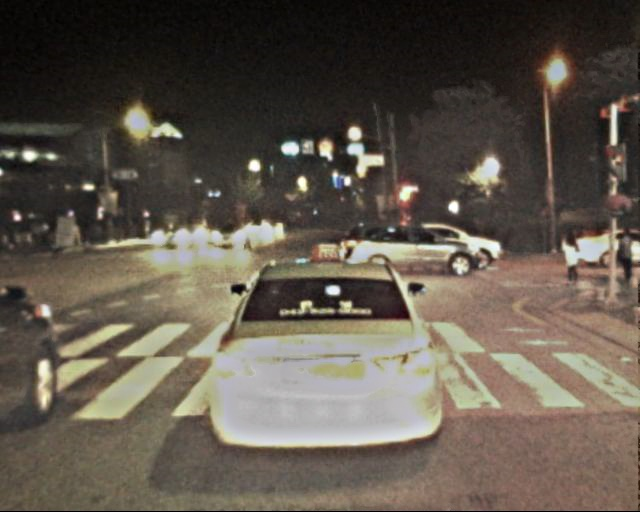person: (561, 228, 587, 288), (618, 228, 640, 286)
